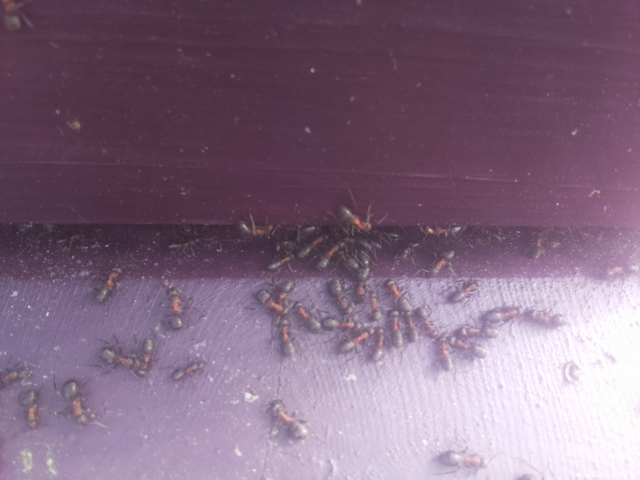ant: (90, 337, 153, 385), (264, 391, 314, 448), (263, 231, 325, 276), (243, 277, 299, 323), (57, 370, 96, 431), (377, 276, 426, 324), (88, 261, 132, 311), (331, 197, 376, 239), (424, 445, 487, 475), (322, 273, 359, 322), (18, 379, 42, 439), (343, 246, 372, 295), (132, 332, 158, 381), (163, 283, 187, 334), (335, 326, 375, 356), (168, 358, 209, 386), (293, 301, 326, 333), (415, 302, 440, 344), (0, 0, 29, 35), (428, 246, 457, 280), (314, 239, 343, 273), (278, 318, 296, 364), (449, 278, 482, 303), (366, 288, 384, 327), (0, 367, 31, 388), (437, 337, 454, 375), (370, 329, 389, 363), (236, 222, 269, 237)
